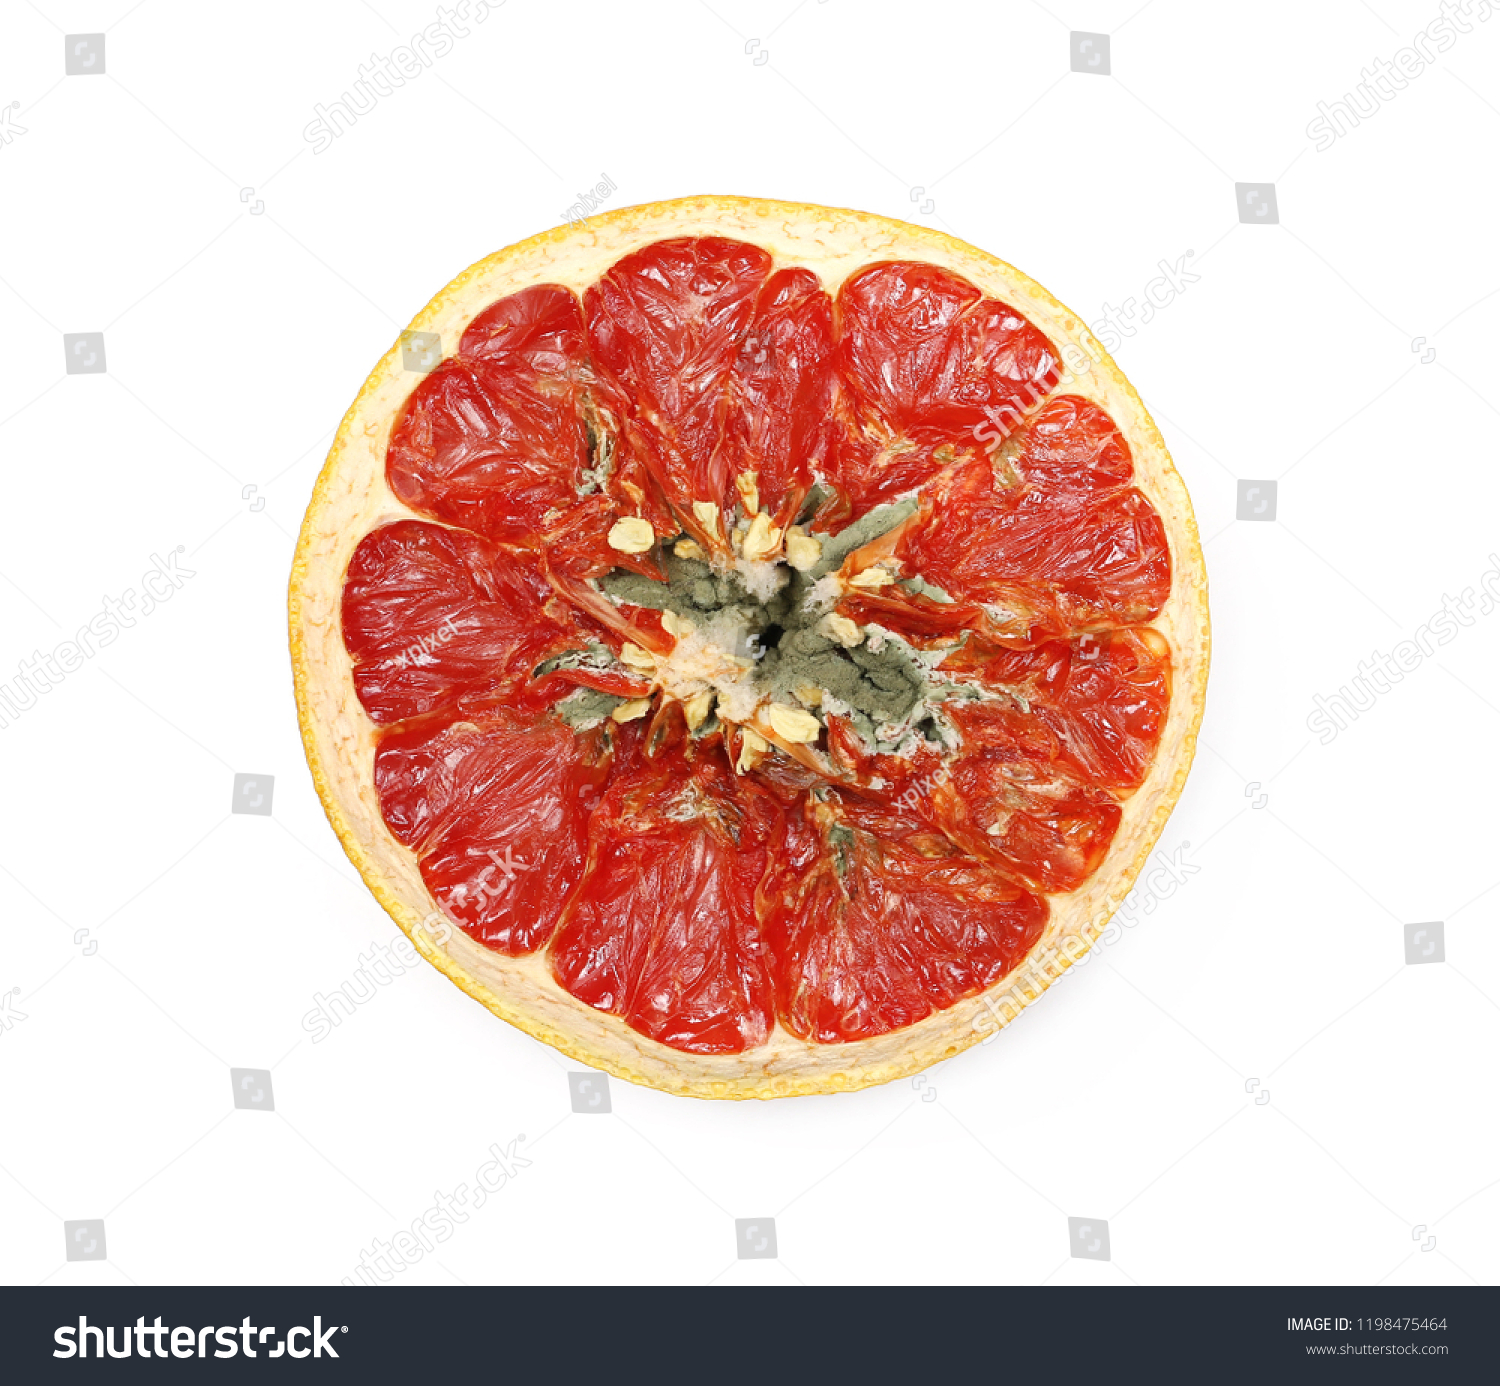damaged_grapefruit: (303, 185, 1182, 1063)
